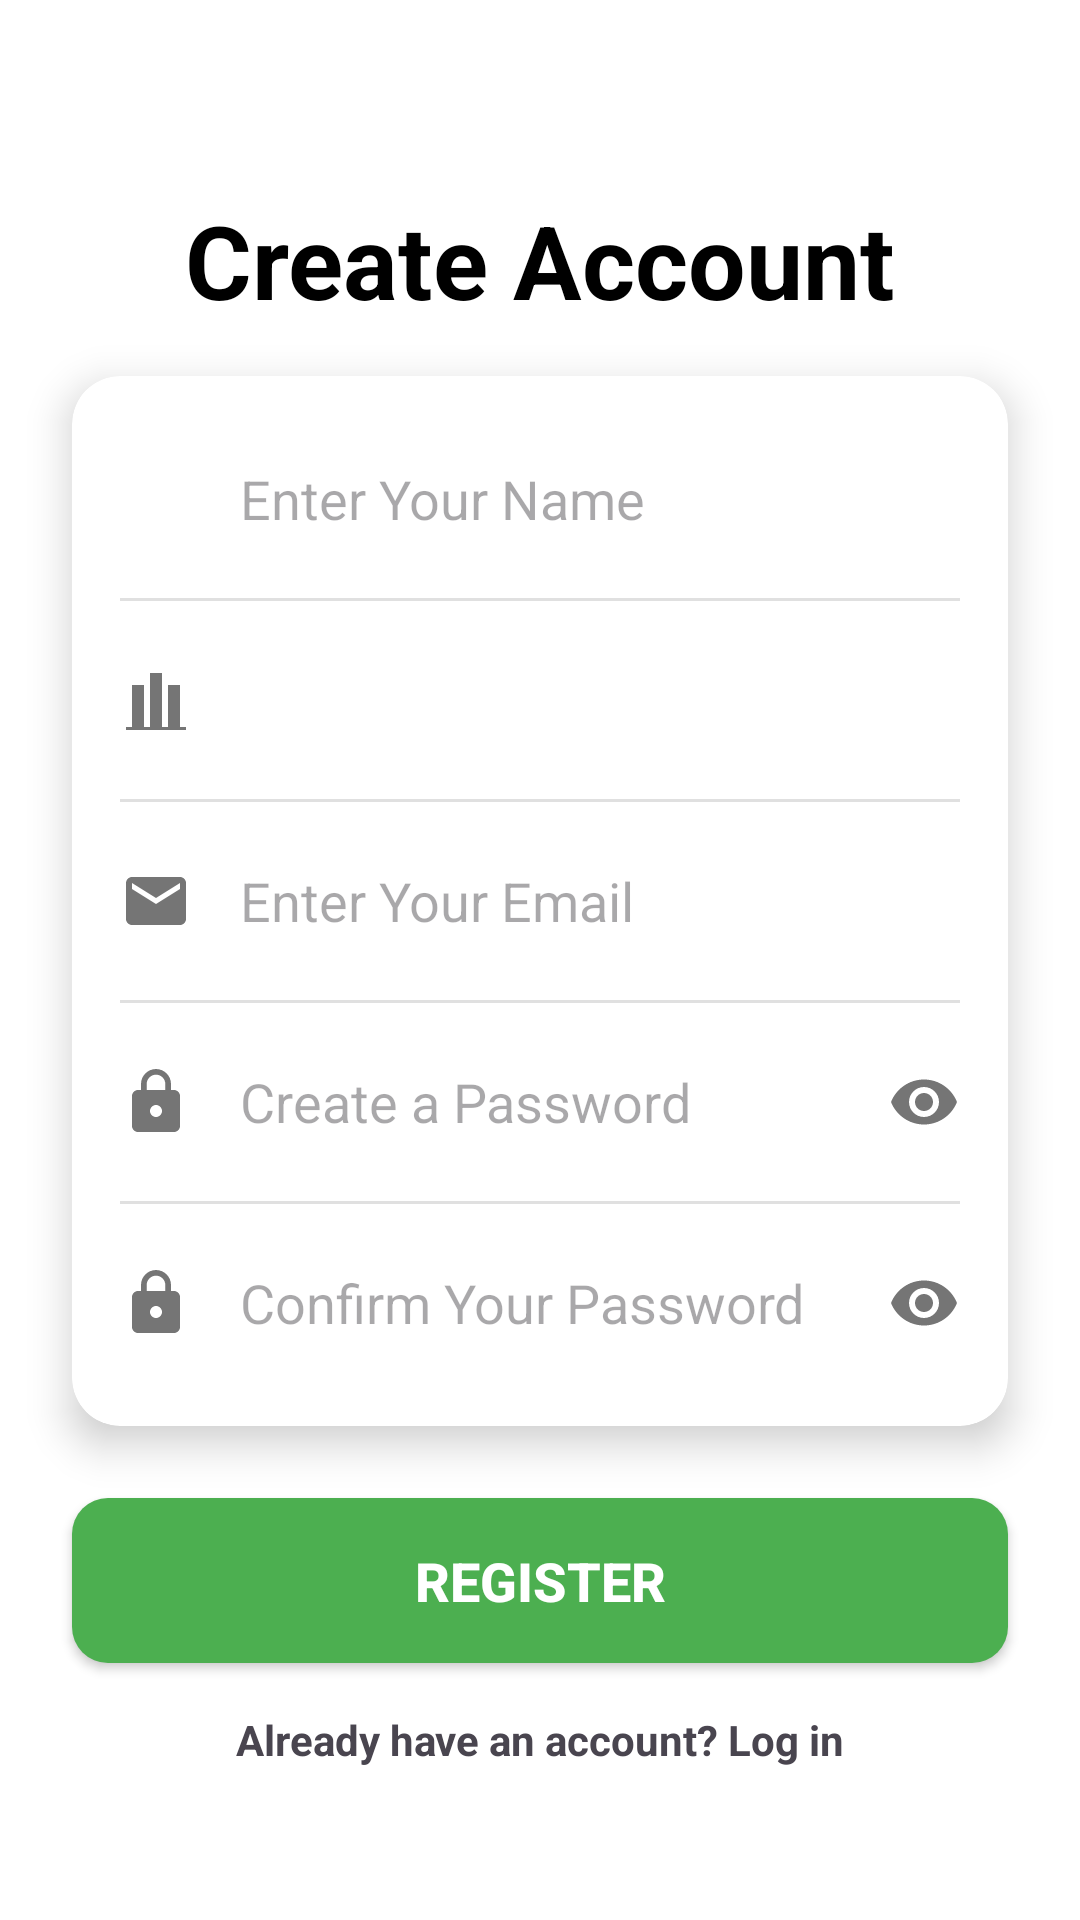

Icons on this 1080px×1920px Android screen, each with the point to tap as (x,y):
eye: (924,1102), (924,1303)
